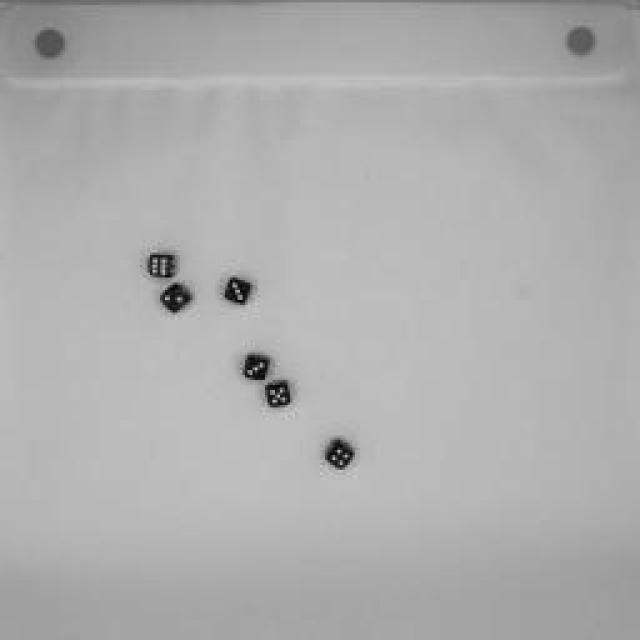dice_2: (155, 280, 195, 318)
dice_3: (236, 348, 276, 382), (220, 273, 260, 305)
dice_4: (320, 435, 360, 475)
dice_5: (141, 248, 181, 282), (262, 378, 298, 412)
